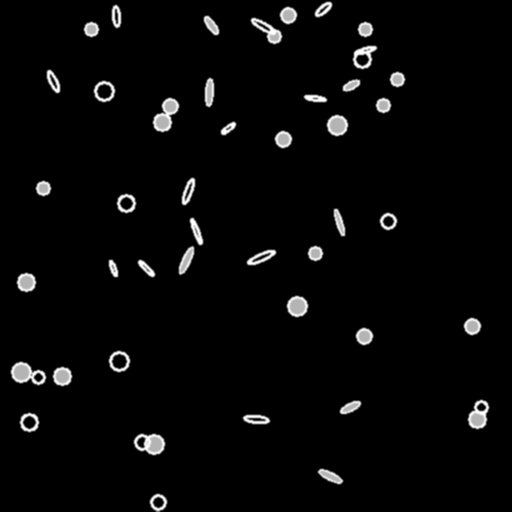pseudomonas: (250, 16, 276, 36), (177, 246, 195, 274), (247, 248, 275, 266), (180, 178, 196, 204), (189, 217, 203, 245), (318, 468, 342, 484), (202, 15, 220, 35), (339, 399, 361, 415), (45, 70, 61, 92), (137, 259, 155, 277), (333, 209, 345, 235), (314, 1, 332, 17), (220, 121, 236, 135), (205, 79, 213, 105), (355, 45, 375, 55), (244, 415, 268, 423), (343, 79, 359, 91), (108, 259, 118, 277), (304, 94, 326, 102), (112, 5, 120, 27)
synechocystis: (145, 435, 163, 453), (12, 363, 30, 381), (288, 297, 306, 315), (328, 116, 346, 134), (95, 82, 113, 100), (110, 352, 128, 370), (54, 368, 70, 384), (118, 195, 134, 211), (469, 411, 485, 427), (354, 51, 370, 67), (18, 274, 34, 290), (154, 114, 170, 130), (21, 414, 37, 430), (465, 319, 479, 333), (151, 495, 165, 509), (281, 8, 295, 22), (357, 329, 371, 343), (135, 435, 149, 449), (163, 99, 177, 113), (381, 214, 395, 228), (276, 132, 290, 146), (85, 23, 97, 35), (377, 99, 389, 111), (32, 371, 44, 383), (359, 23, 371, 35), (268, 30, 280, 42), (309, 247, 321, 259), (391, 73, 403, 85), (37, 182, 49, 194), (475, 401, 487, 413)
